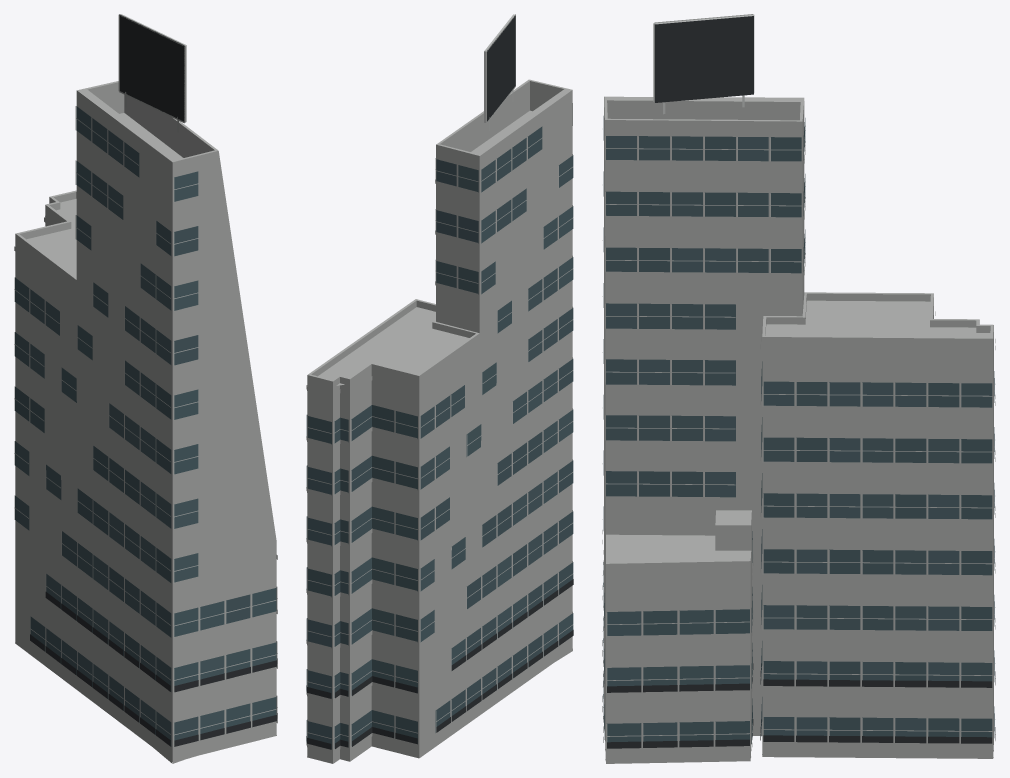
The model's file is east-mixeduse.glb.
3 renders of one model, left to right at view 1: azimuth 30°, elevation 25°; view 2: azimuth 150°, elevation 25°; view 3: azimuth 270°, elevation 25°, orthographic. The views are drawn at different scales.
Parts seen in each view (by area): view 1: east-mixeduse_wall, east-mixeduse_glass1, east-mixeduse_glass2, east-mixeduse_glass0, east-mixeduse_sign_housing, east-mixeduse_frame, east-mixeduse_roof, east-mixeduse_spandrel; view 2: east-mixeduse_wall, east-mixeduse_glass0, east-mixeduse_glass2, east-mixeduse_glass1, east-mixeduse_roof, east-mixeduse_frame, east-mixeduse_sign_housing, east-mixeduse_spandrel; view 3: east-mixeduse_wall, east-mixeduse_glass1, east-mixeduse_glass0, east-mixeduse_glass2, east-mixeduse_spandrel, east-mixeduse_sign_housing, east-mixeduse_roof, east-mixeduse_frame.
Boxes of the visible parts, <box> form: east-mixeduse_wall: <box>15,82,276,763</box>; east-mixeduse_glass1: <box>15,106,276,727</box>; east-mixeduse_glass2: <box>15,160,276,746</box>; east-mixeduse_glass0: <box>15,118,250,740</box>; east-mixeduse_sign_housing: <box>30,15,277,746</box>; east-mixeduse_frame: <box>14,14,277,746</box>; east-mixeduse_roof: <box>15,81,218,279</box>; east-mixeduse_spandrel: <box>14,216,277,750</box>; east-mixeduse_wall: <box>307,81,572,763</box>; east-mixeduse_glass0: <box>306,126,573,748</box>; east-mixeduse_glass2: <box>307,165,573,749</box>; east-mixeduse_glass1: <box>306,155,573,696</box>; east-mixeduse_roof: <box>308,79,572,385</box>; east-mixeduse_frame: <box>307,14,573,749</box>; east-mixeduse_sign_housing: <box>306,16,573,749</box>; east-mixeduse_spandrel: <box>306,179,480,753</box>; east-mixeduse_wall: <box>604,97,993,763</box>; east-mixeduse_glass1: <box>603,136,994,743</box>; east-mixeduse_glass0: <box>603,127,994,740</box>; east-mixeduse_glass2: <box>603,116,994,741</box>; east-mixeduse_spandrel: <box>602,141,995,752</box>; east-mixeduse_sign_housing: <box>602,16,995,748</box>; east-mixeduse_roof: <box>604,96,993,563</box>; east-mixeduse_frame: <box>602,14,995,748</box>.
Size of the model in its own units: 8.84 by 54.13 by 27.22.
